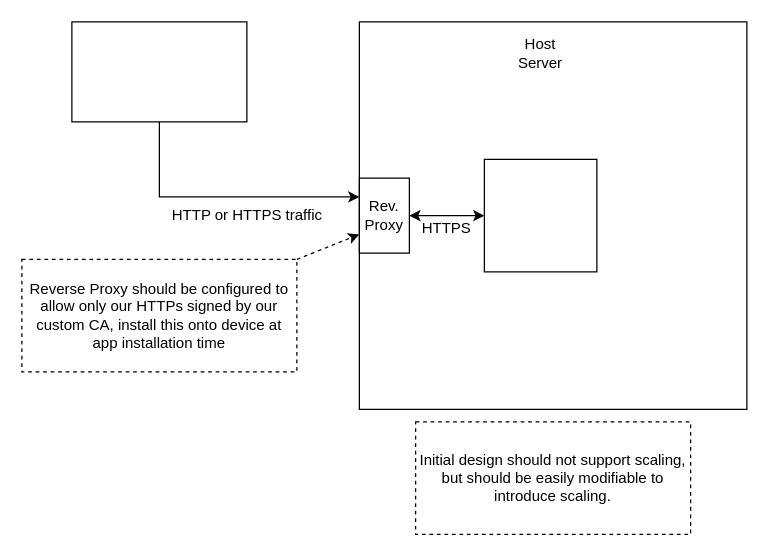
The diagram is 769 pixels wide and 556 high, and some of its shapes have lost their labels. Each missing label, with the centre of its shape:
"API" goes at point 540,215.
"iPhone App" goes at point 159,71.
